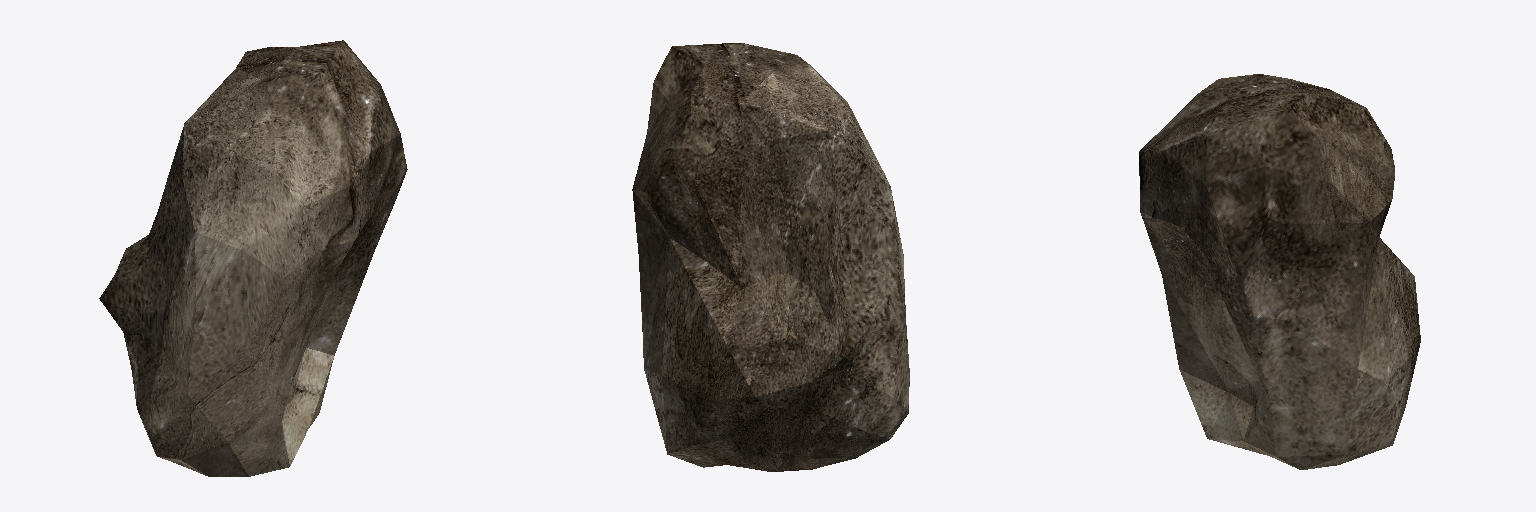
3 views of the same model, side by side, from view 1: azimuth 30°, elevation 25°; view 2: azimuth 150°, elevation 25°; view 3: azimuth 270°, elevation 25° (orthographic).
Parts seen in each view (by area): view 1: rock_low_poly_01_rock-sculpt-brushes-dyntopo.001; view 2: rock_low_poly_01_rock-sculpt-brushes-dyntopo.001; view 3: rock_low_poly_01_rock-sculpt-brushes-dyntopo.001.
Part boxes in pixels (bbox=[...]): rock_low_poly_01_rock-sculpt-brushes-dyntopo.001: bbox=[99, 40, 407, 476]; rock_low_poly_01_rock-sculpt-brushes-dyntopo.001: bbox=[632, 43, 909, 471]; rock_low_poly_01_rock-sculpt-brushes-dyntopo.001: bbox=[1139, 74, 1420, 469].
Size of the model in its own units: 1.62 by 2.37 by 1.59.
1 materials, 1 textured.